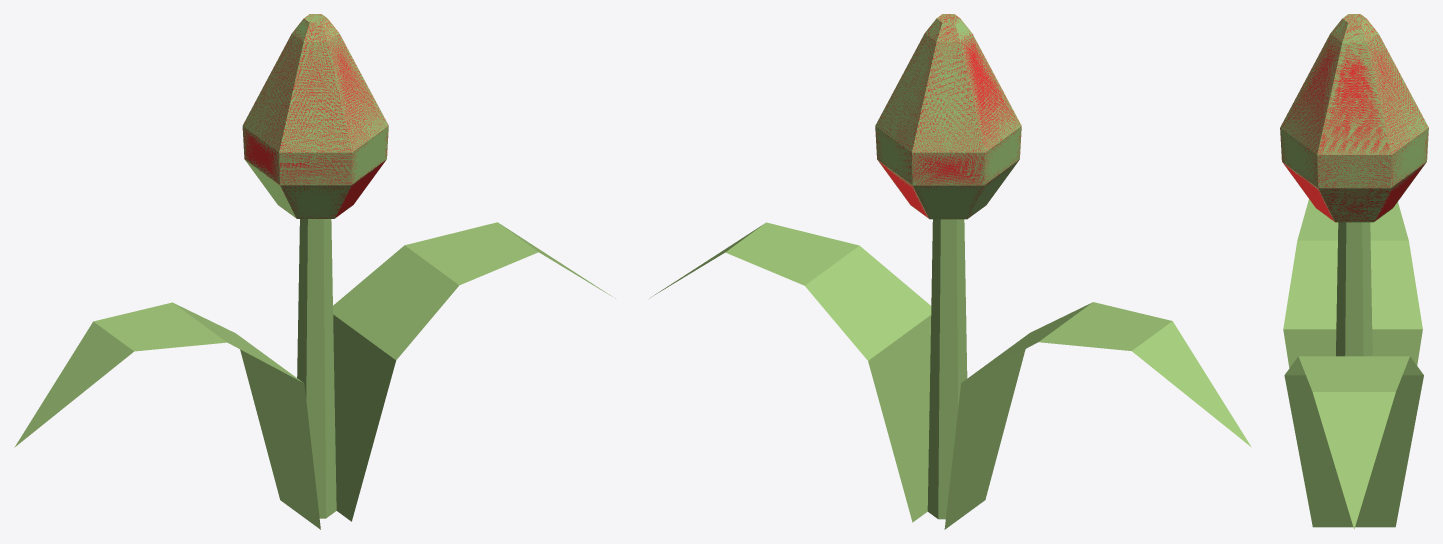
Rendered from Vegetation_Flower_Tulip_01.fbx.
The picture shows the model from 3 angles, left to right: view 1: azimuth 30°, elevation 25°; view 2: azimuth 150°, elevation 25°; view 3: azimuth 270°, elevation 25°; orthographic projection.
Visible parts, largest first — view 1: Vegetation_Flower_Tulip_01; view 2: Vegetation_Flower_Tulip_01; view 3: Vegetation_Flower_Tulip_01.
Part boxes in pixels (box(x1,y1,x2,y2)): Vegetation_Flower_Tulip_01: box(14, 14, 615, 529); Vegetation_Flower_Tulip_01: box(649, 14, 1251, 529); Vegetation_Flower_Tulip_01: box(1280, 14, 1428, 529).
Bounding box in the file's own units: 731 × 569 × 153.
